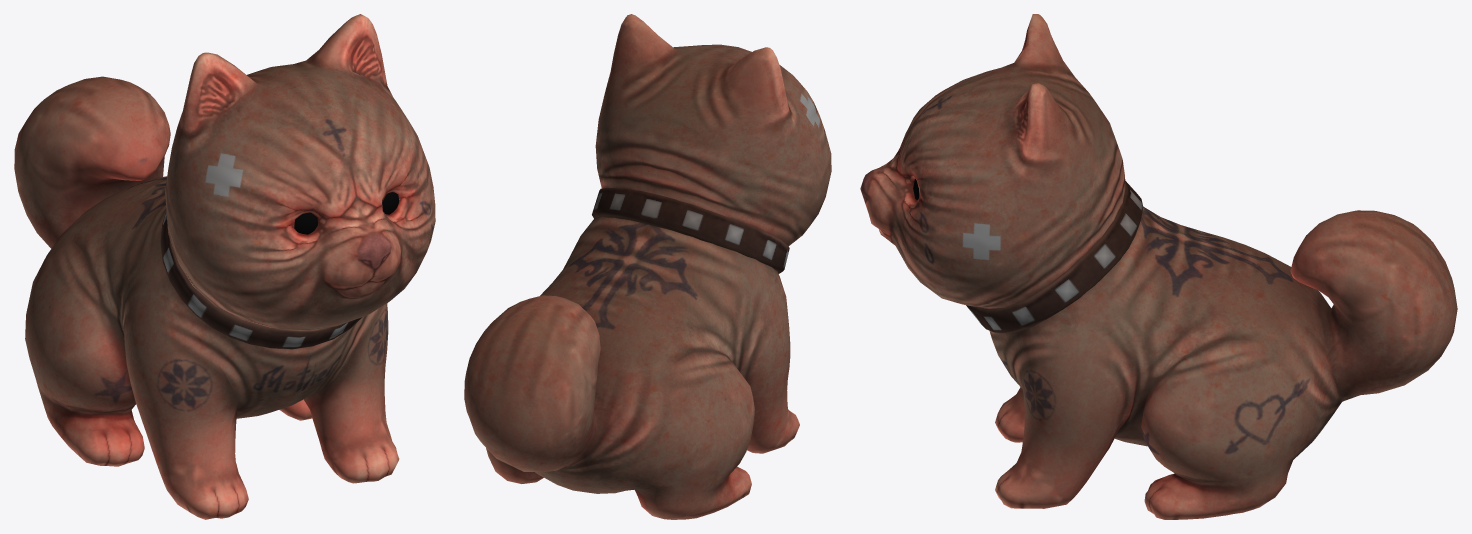
The picture shows the model from 3 angles, left to right: view 1: azimuth 30°, elevation 25°; view 2: azimuth 150°, elevation 25°; view 3: azimuth 270°, elevation 25°; orthographic projection. The views are drawn at different scales.
Visible parts, largest first — view 1: Shiba; view 2: Shiba; view 3: Shiba.
Part boxes in pixels (x1,y1,x2,y2): Shiba: (14,14,435,519); Shiba: (464,14,831,519); Shiba: (860,14,1457,519).
Bounding box in the file's own units: 92.09 × 138 × 177.
